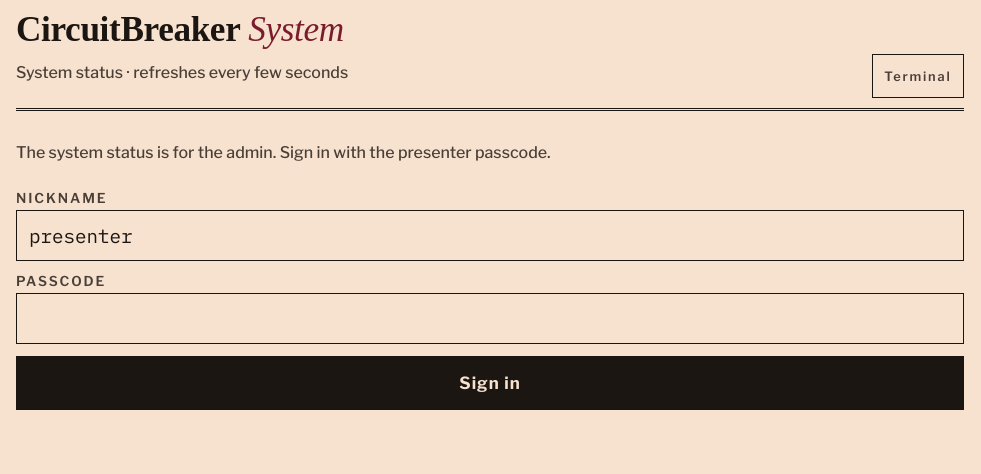
Scenario: StatusPage › says so when the passcode is wrong
Click the button "Sign in" at {"x": 490, "y": 383}, box [16,356,964,410]
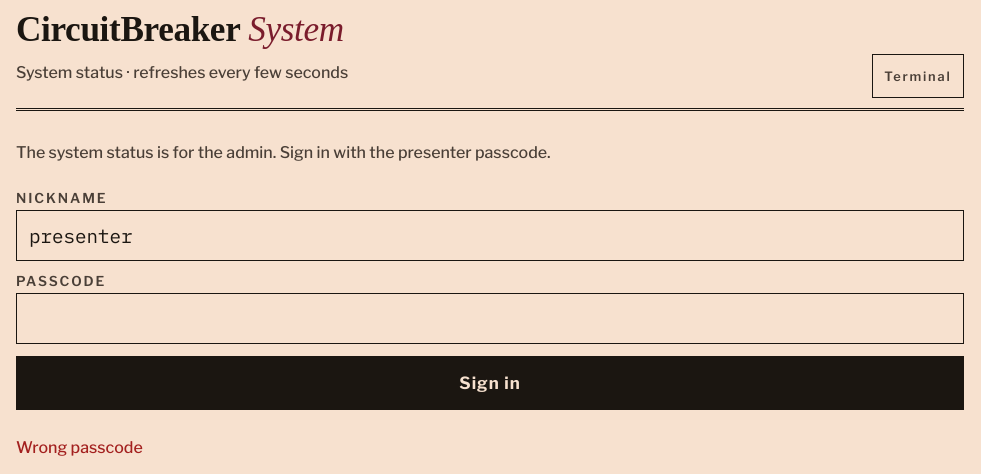
Check: the message reads "Wrong passcode", box [16,438,143,457]
